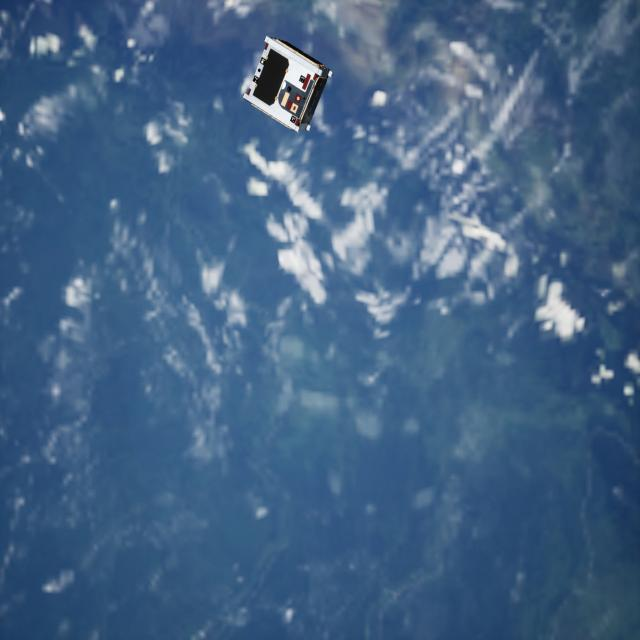medium_debris: (239, 35, 340, 132)
